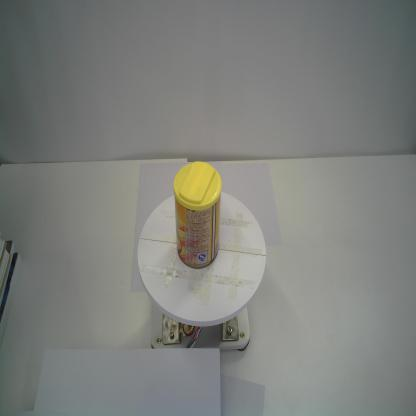Canned Food: (172, 159, 223, 269)
